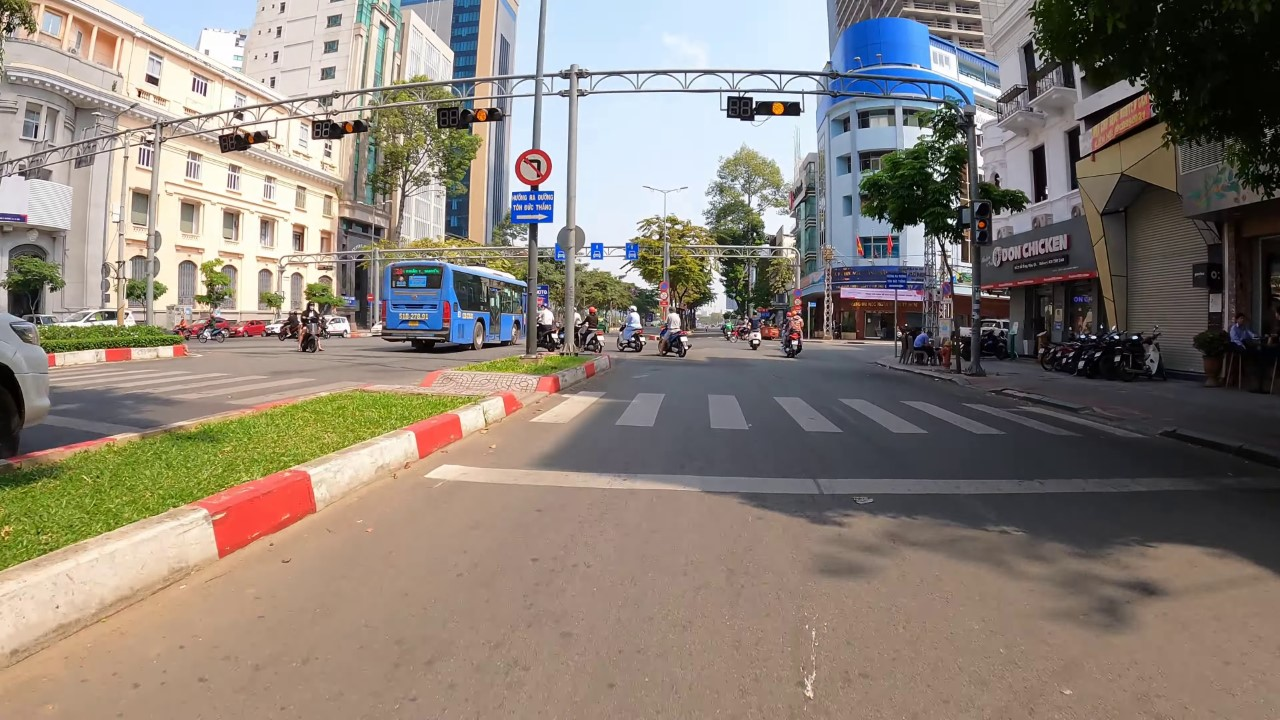cam_re_trai: (510, 146, 556, 189)
